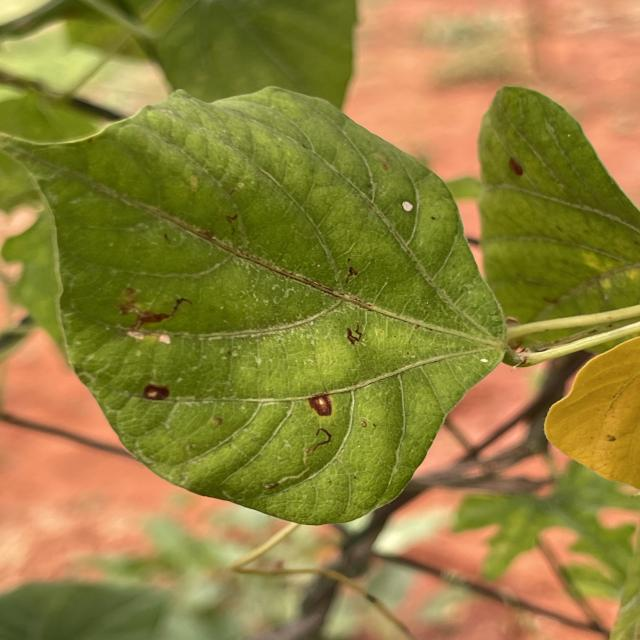Dolicos bean_cercospora leaf spot: (0, 84, 492, 530)
